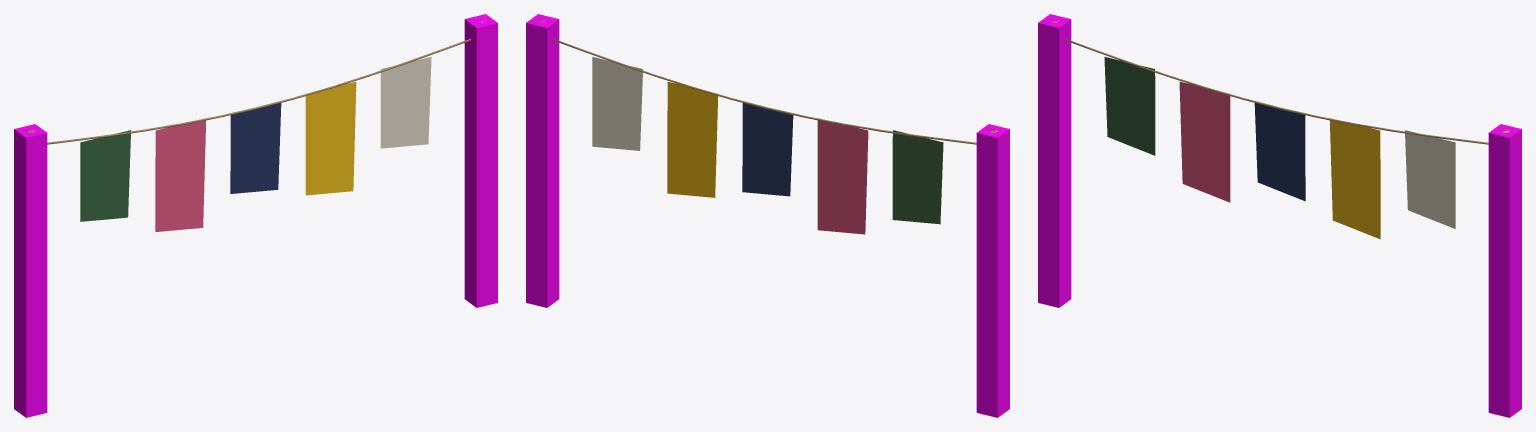
The model's file is PRP_Laundry_Line_A.glb.
3 renders of one model, left to right at view 1: azimuth 30°, elevation 25°; view 2: azimuth 150°, elevation 25°; view 3: azimuth 330°, elevation 25°, orthographic.
Visible parts, largest first — view 1: PRP_Laundry_Line_A_Mesh, COL_Pole_-1, COL_Pole_1; view 2: PRP_Laundry_Line_A_Mesh, COL_Pole_-1, COL_Pole_1; view 3: PRP_Laundry_Line_A_Mesh, COL_Pole_1, COL_Pole_-1.
Part boxes in pixels (x1,y1,x2,y2): PRP_Laundry_Line_A_Mesh: (25,19,485,231); COL_Pole_-1: (14,124,47,417); COL_Pole_1: (464,14,497,307); PRP_Laundry_Line_A_Mesh: (537,19,997,234); COL_Pole_-1: (976,124,1009,417); COL_Pole_1: (526,14,559,307); PRP_Laundry_Line_A_Mesh: (1050,19,1510,239); COL_Pole_1: (1488,124,1521,417); COL_Pole_-1: (1038,14,1071,307).
Bounding box in the file's own units: 3.35 × 1.9 × 0.15.
